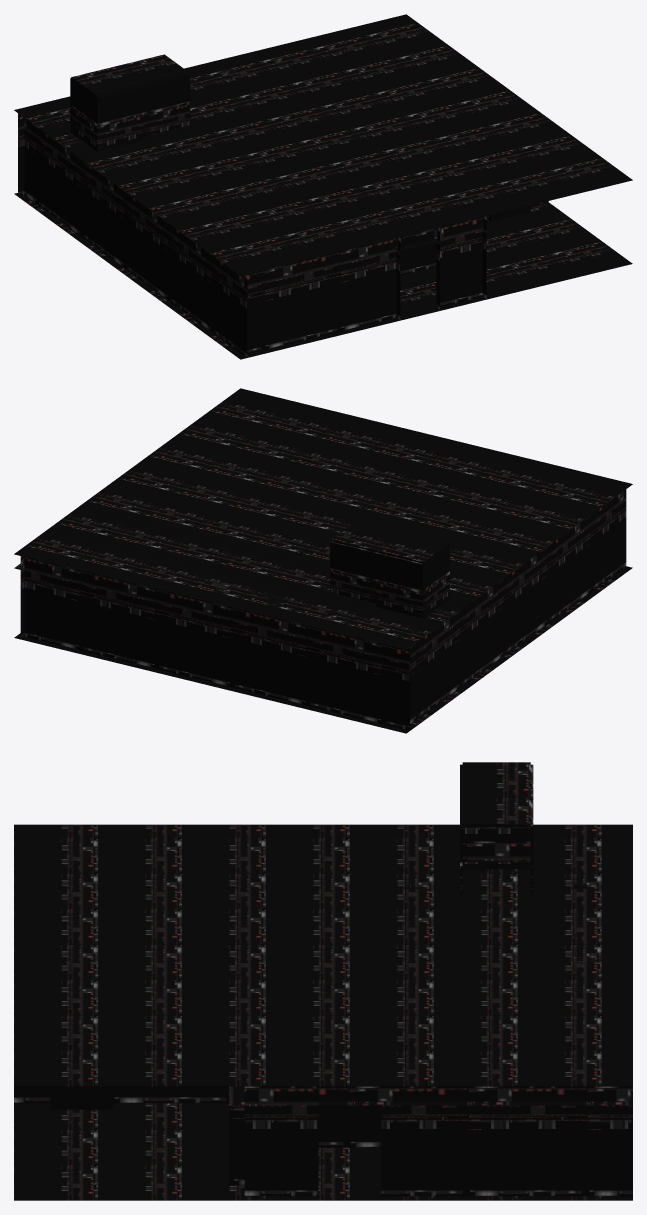
Rendered from lockroom_opt.obj.
The picture shows the model from 3 angles, top to bottom: view 1: azimuth 30°, elevation 25°; view 2: azimuth 150°, elevation 25°; view 3: azimuth 270°, elevation 25°; orthographic projection. The views are drawn at different scales.
Bounding box in the file's own units: 1888 × 640 × 1888.
